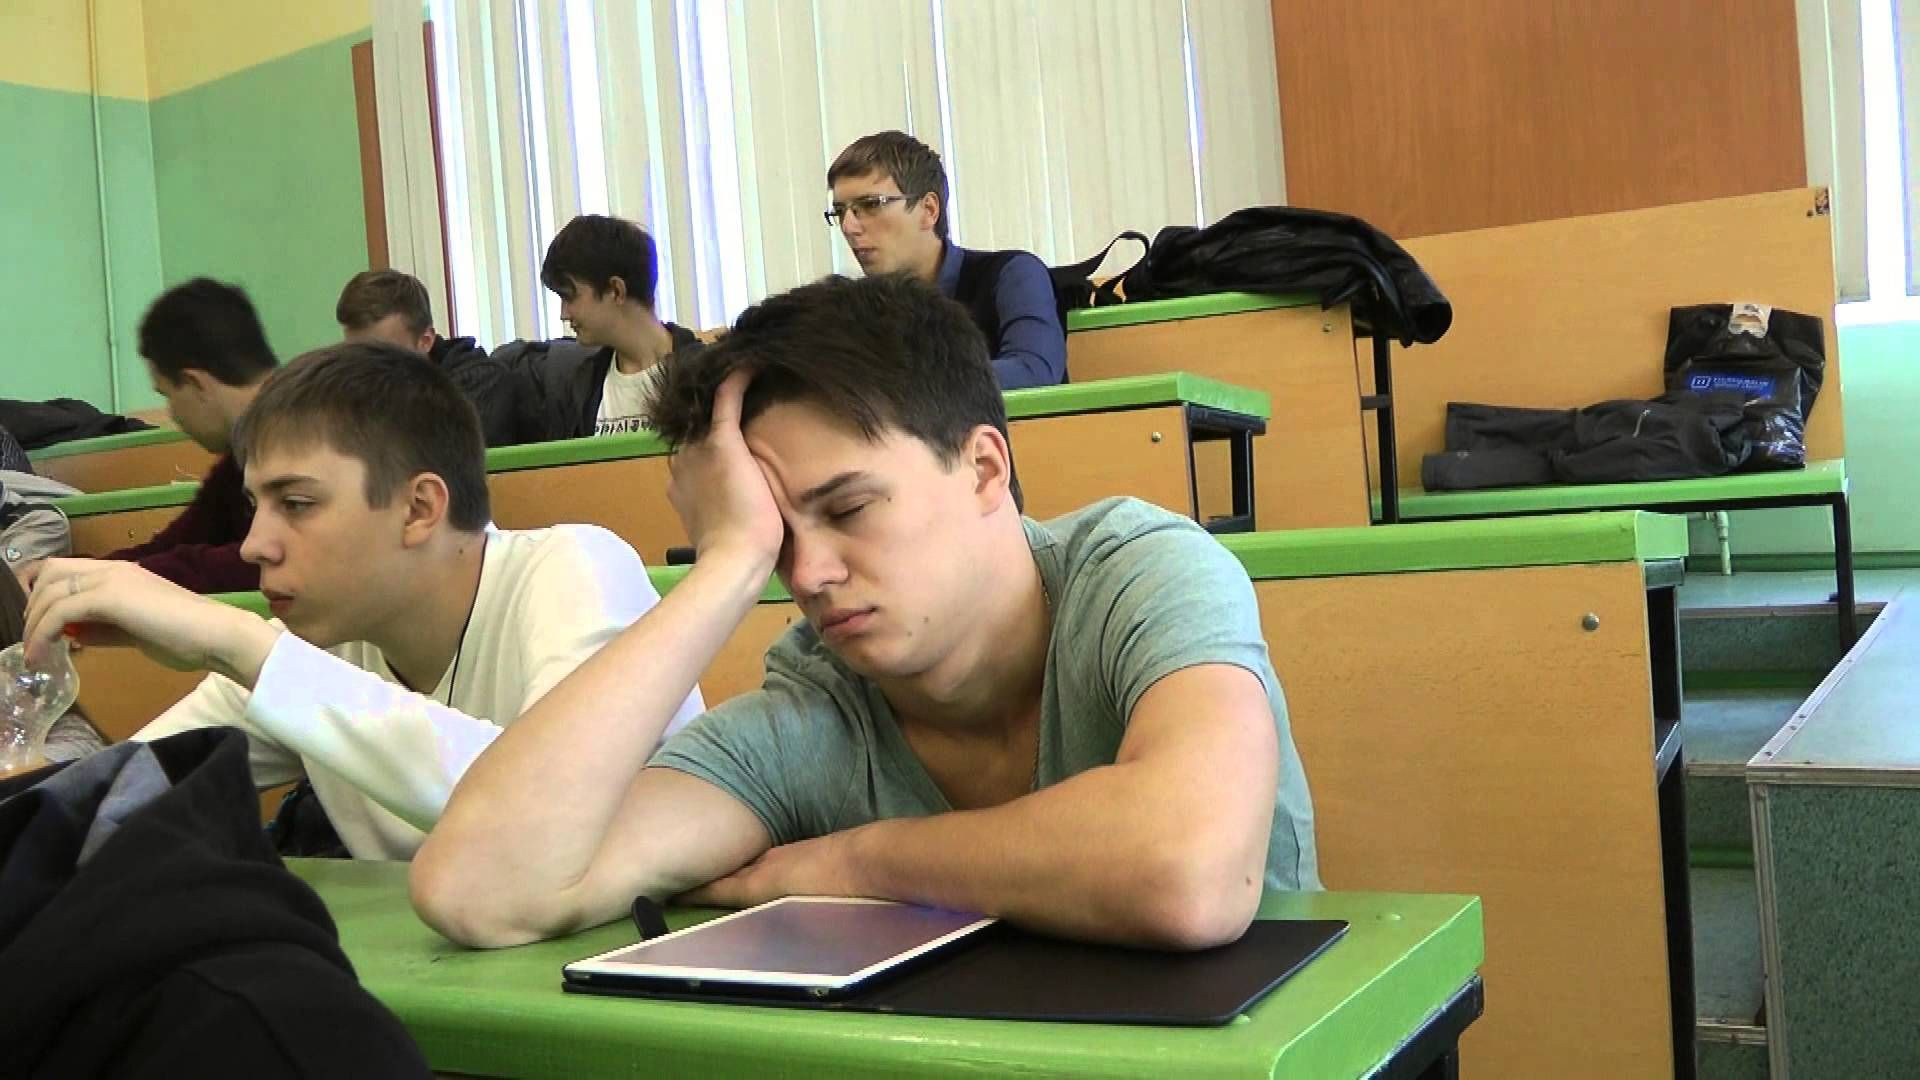students: (403, 279, 1322, 964), (23, 336, 711, 882), (806, 127, 1071, 384), (101, 269, 291, 594), (513, 213, 719, 444), (332, 268, 485, 371)
